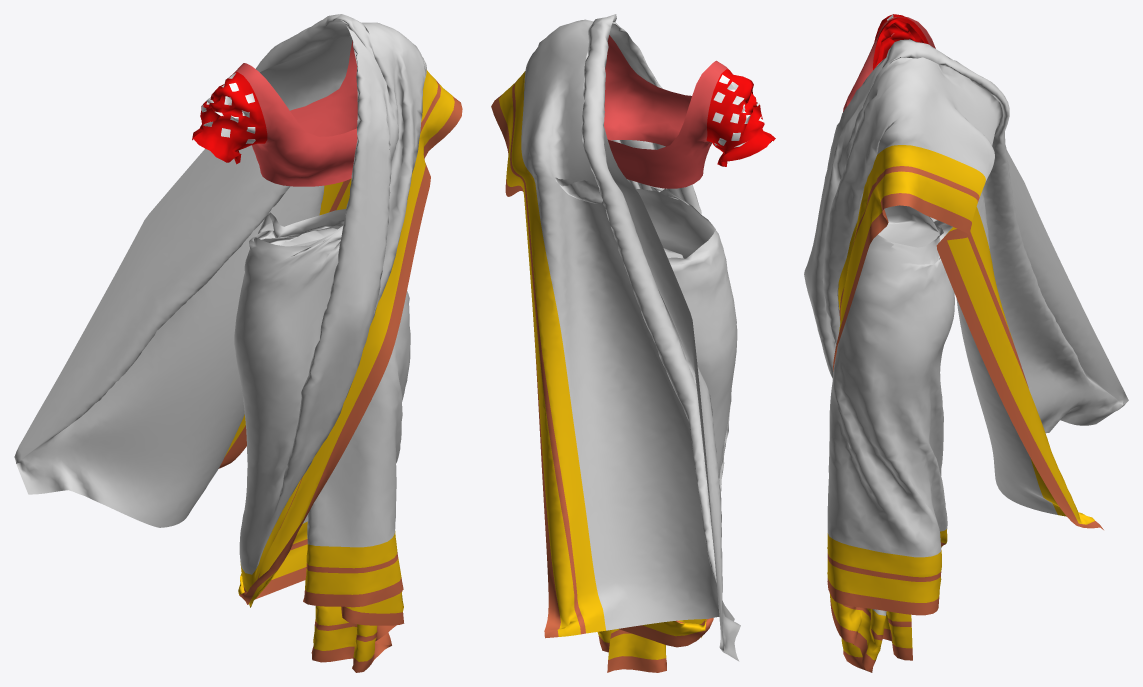
Rendered from saree.glb.
3 renders of one model, left to right at view 1: azimuth 30°, elevation 25°; view 2: azimuth 150°, elevation 25°; view 3: azimuth 270°, elevation 25°, orthographic. The views are drawn at different scales.
Parts seen in each view (by area): view 1: test 3; view 2: test 3; view 3: test 3.
Part boxes in pixels (left/top/right/bottom): test 3: left=14, top=14, right=462, bottom=672; test 3: left=491, top=14, right=775, bottom=672; test 3: left=804, top=14, right=1128, bottom=672.
Bounding box in the file's own units: 1.15 × 2.07 × 0.9739.
